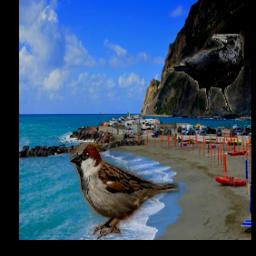Crow: (168, 35, 244, 115)
Sparrow: (71, 142, 181, 239)
